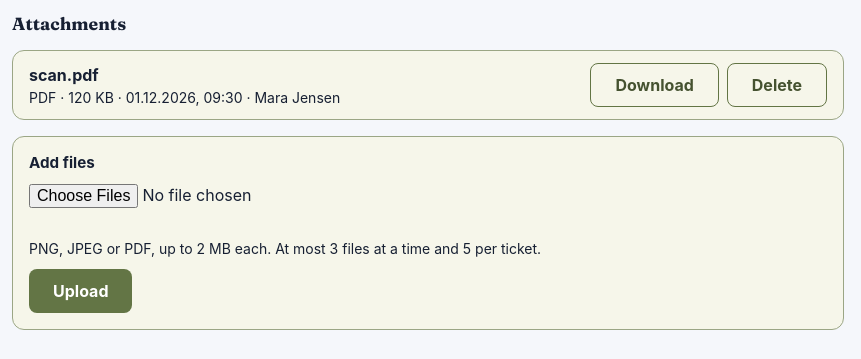
Scenario: delete › asks to confirm, deletes, and removes the file from the list
Step 1. Click the button with aria-label "Delete scan.pdf" → (777, 85), box left=727, top=63, right=827, bottom=107
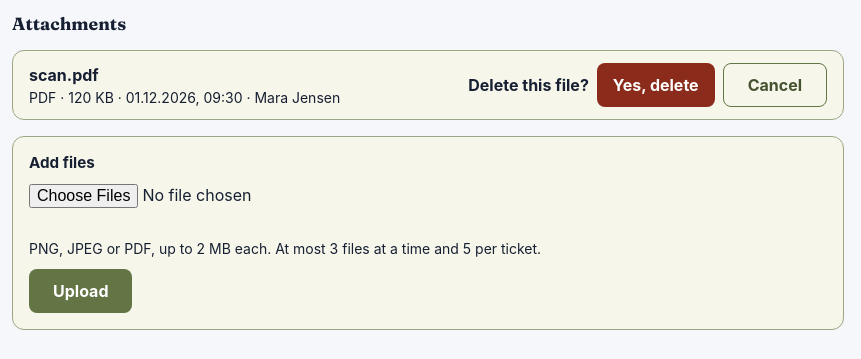
expect the text "Delete this file?" is shown: met, box left=468, top=75, right=589, bottom=95
Step 2. Click the button with aria-label "Yes, delete scan.pdf" → (656, 85), box left=597, top=63, right=715, bottom=107
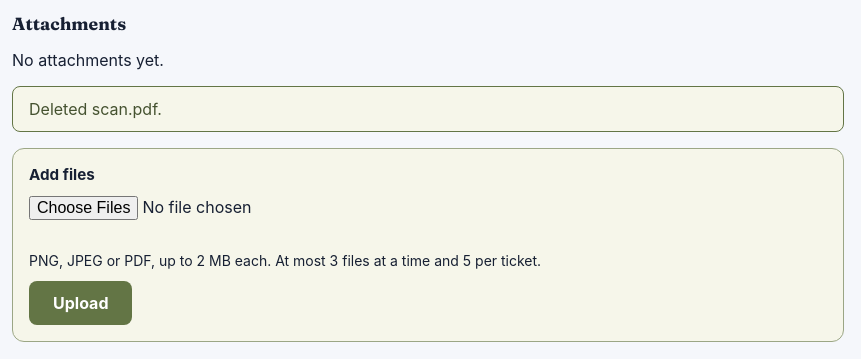
expect the message reads "Deleted scan.pdf.": met, box left=29, top=99, right=162, bottom=119
expect the text "No attachments yet." is shown: met, box left=12, top=50, right=164, bottom=70
